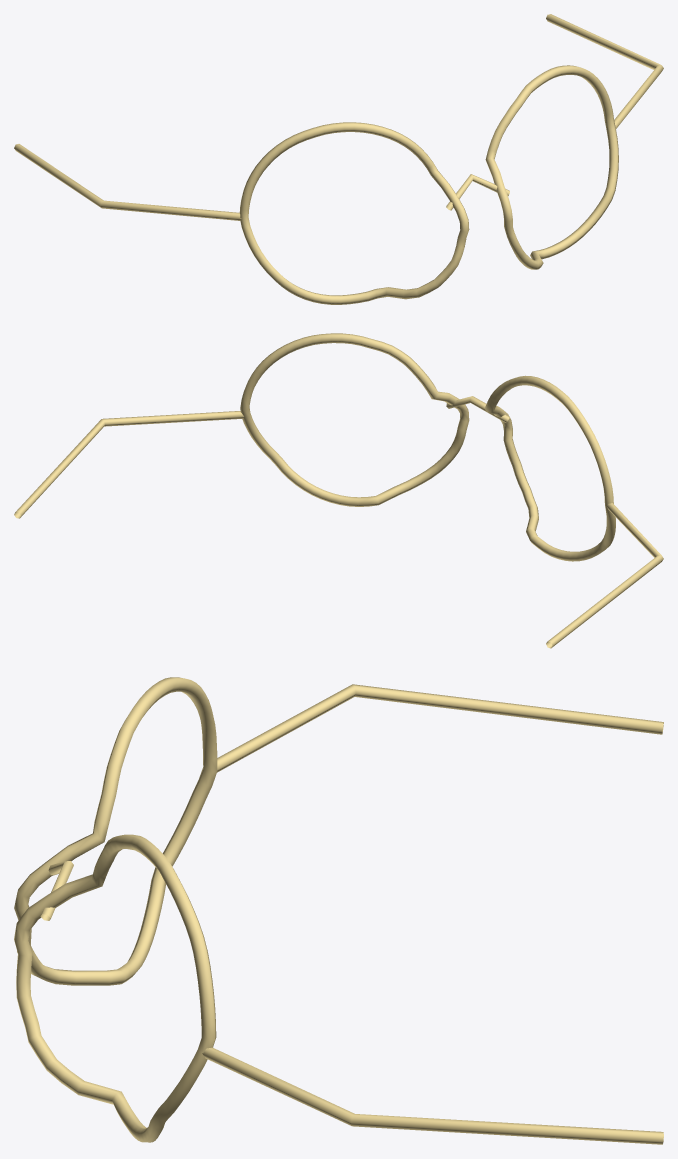
The model's file is restart_glasses_round_bear.glb.
3 renders of one model, top to bottom at view 1: azimuth 30°, elevation 25°; view 2: azimuth 150°, elevation 25°; view 3: azimuth 270°, elevation 25°, orthographic. The views are drawn at different scales.
Parts seen in each view (by area): view 1: Montura.008, Montura.009, Patilla curva.008, Patilla curva.009; view 2: Montura.009, Montura.008, Patilla curva.009, Patilla curva.008; view 3: Montura.009, Montura.008, Patilla curva.009, Patilla curva.008.
Boxes of the visible parts, left/top/right/bottom form: Montura.008: left=239, top=122, right=469, bottom=304; Montura.009: left=485, top=65, right=618, bottom=269; Patilla curva.008: left=14, top=144, right=241, bottom=220; Patilla curva.009: left=546, top=14, right=663, bottom=128; Montura.009: left=240, top=333, right=469, bottom=506; Montura.008: left=485, top=375, right=615, bottom=561; Patilla curva.009: left=14, top=411, right=243, bottom=518; Patilla curva.008: left=546, top=503, right=663, bottom=648; Montura.009: left=14, top=834, right=216, bottom=1142; Montura.008: left=14, top=677, right=217, bottom=985; Patilla curva.009: left=202, top=1047, right=663, bottom=1144; Patilla curva.008: left=217, top=684, right=663, bottom=772.
Size of the model in its own units: 0.7972 by 0.2388 by 0.5039.
